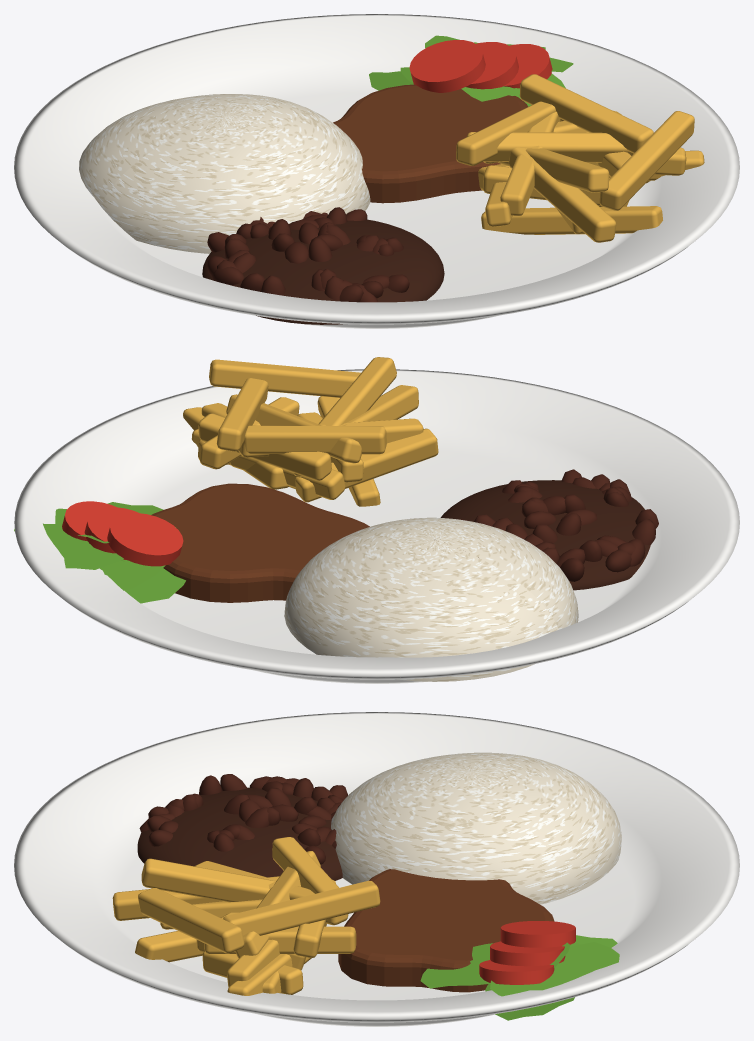
File: prato-feito.glb
3 renders of one model, top to bottom at view 1: azimuth 30°, elevation 25°; view 2: azimuth 150°, elevation 25°; view 3: azimuth 270°, elevation 25°, orthographic.
Size of the model in its own units: 0.27 by 0.0451 by 0.27.
Materials: 10 (1 with a texture image).
